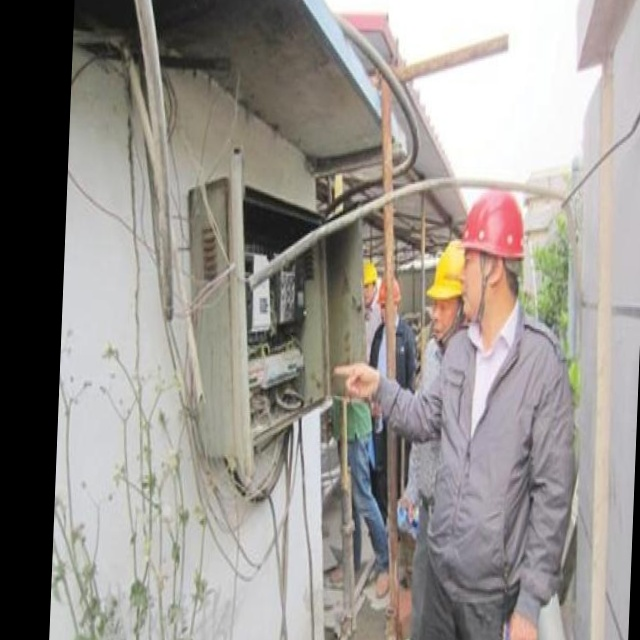Con_Casco: (460, 189, 525, 320), (427, 239, 465, 338)
